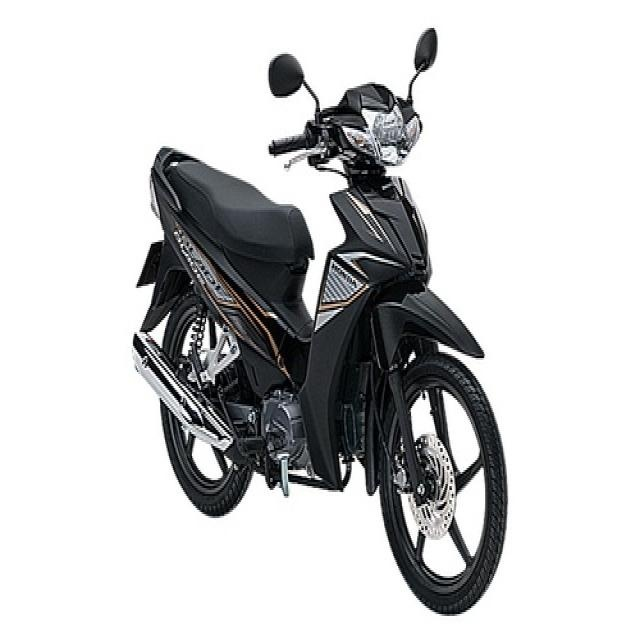Motorcycle: (133, 17, 513, 619)
